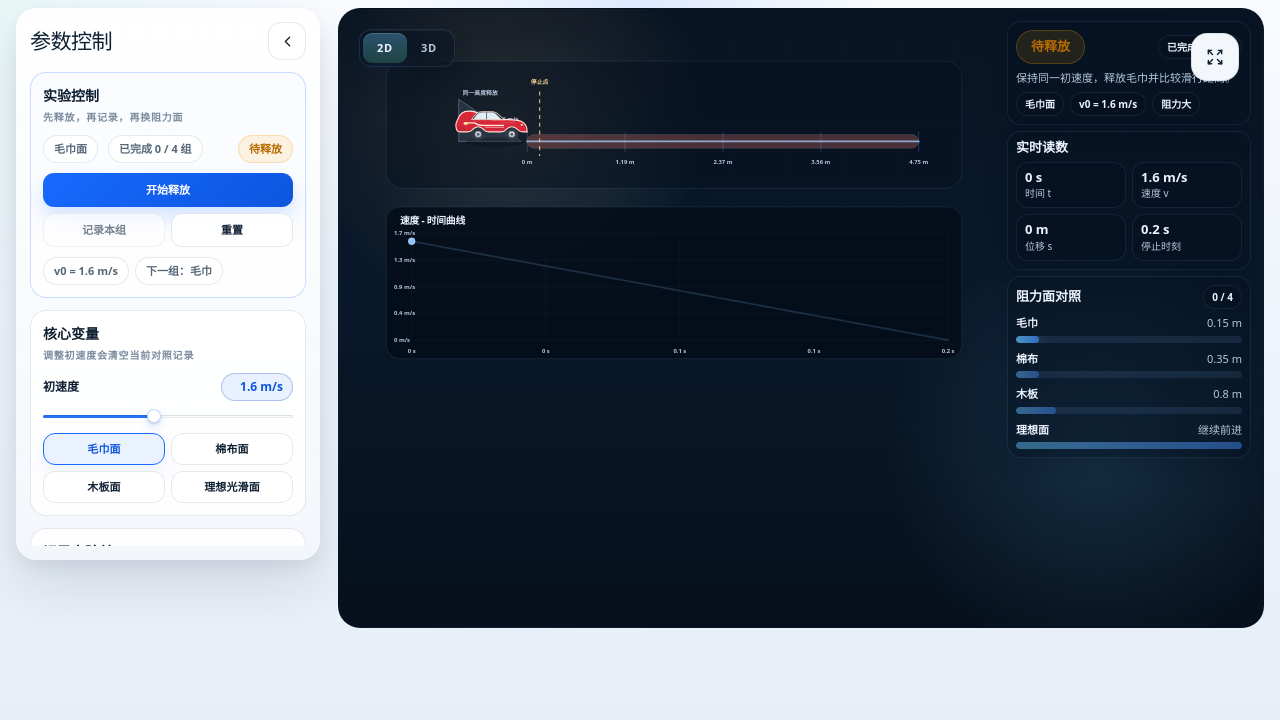
it: NewtonFirstLawLab › records the current surface and advances to the next pending surface
The image size is (1280, 720).
Click the button "开始释放": (168, 190) [43, 173, 293, 207]
Wait 1600 ms
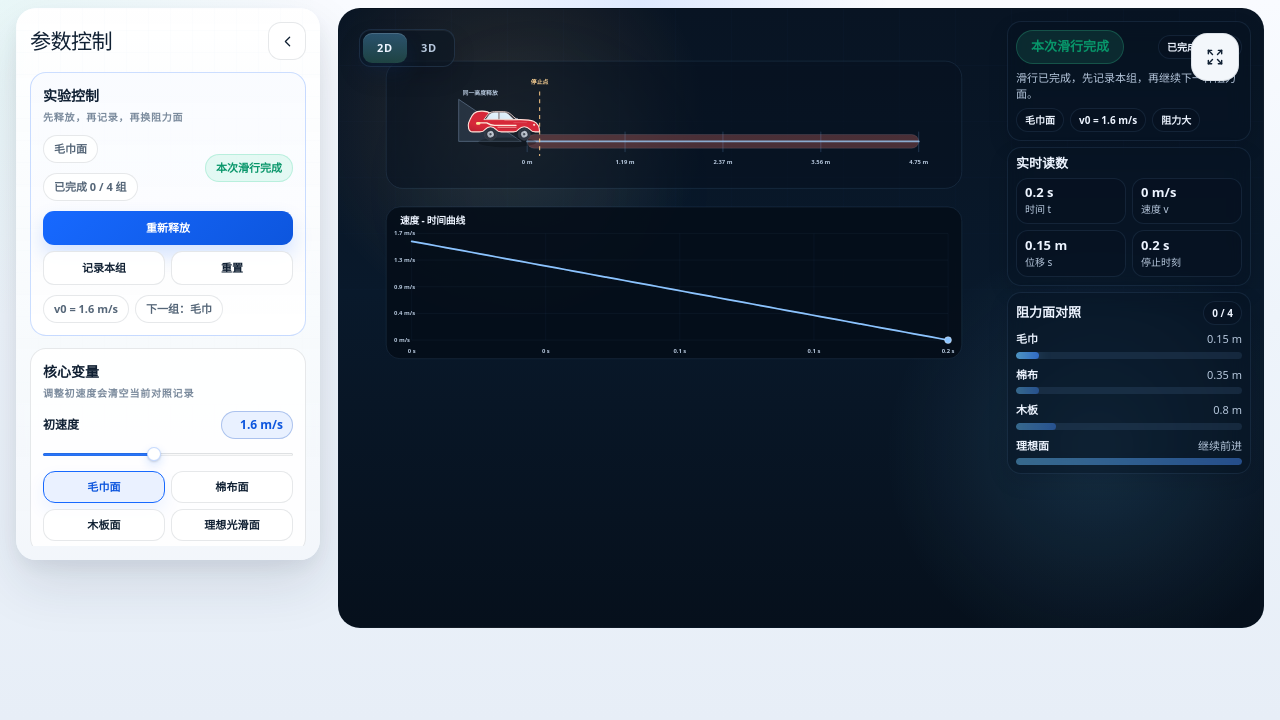
Click the button "记录本组": (104, 268) [43, 251, 165, 285]
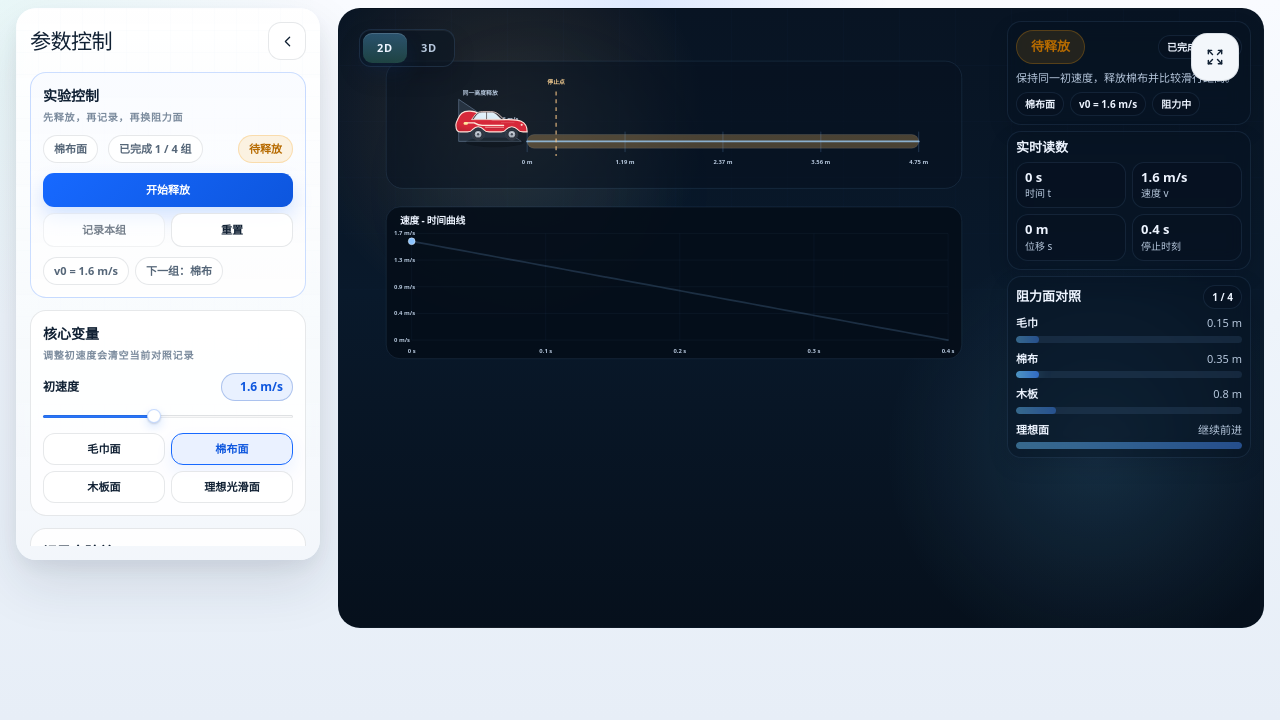
Check: the button "记录本组" is disabled, box [43, 213, 165, 247]
